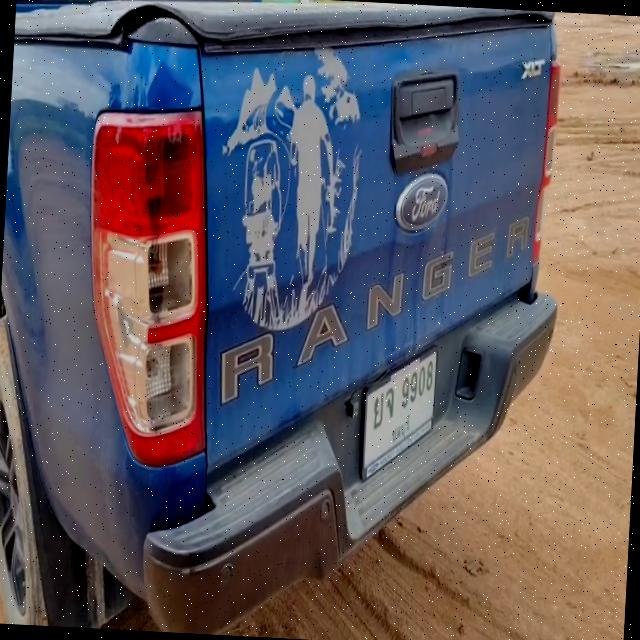Digit: (400, 361, 434, 412)
Licenseplate: (358, 341, 439, 488)
Provincename: (392, 412, 410, 443)
Thaichar: (372, 383, 396, 427)
